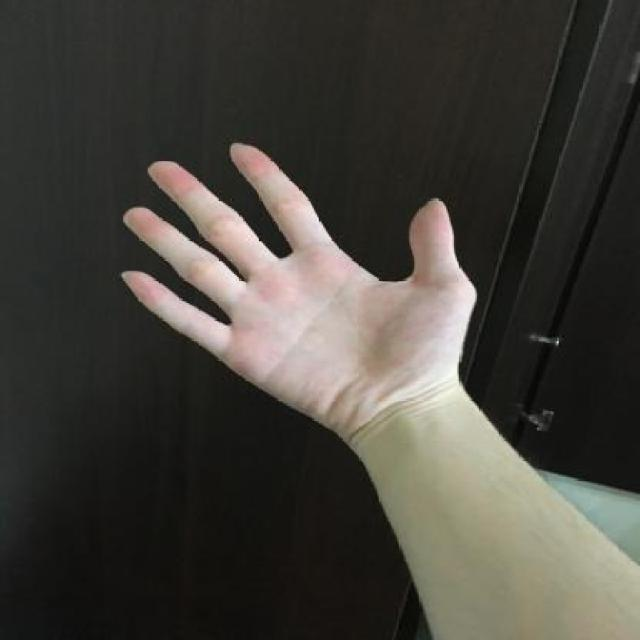bare_hand: (109, 134, 480, 451)
